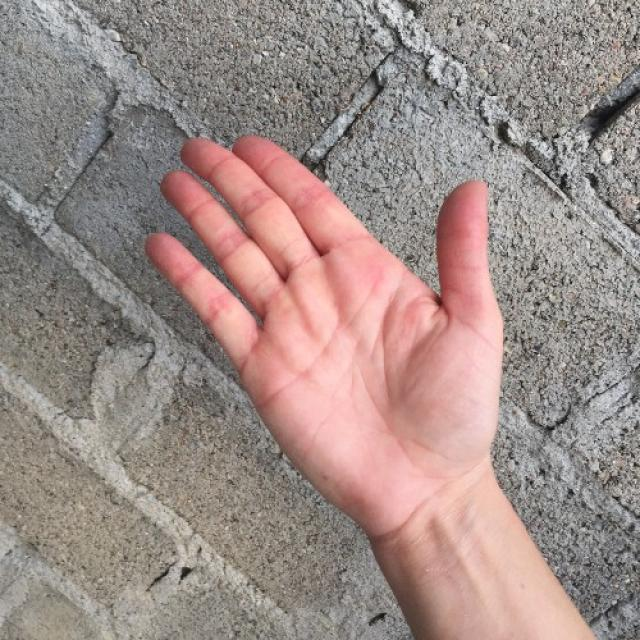paper: (143, 136, 502, 460)
